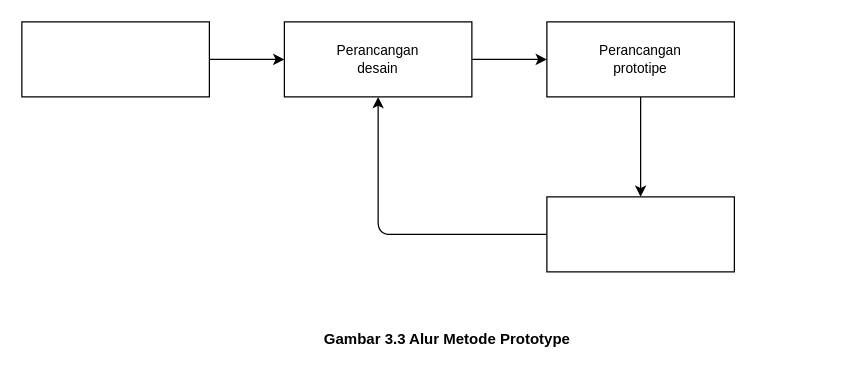
Image size: 844x381. Some labels were removed from this diagram. Each missing label, with the centre of its shape:
"Pengumpulan kebutuhan" belongs at (x=115, y=59).
"Uji coba dan evaluasi" belongs at (x=640, y=234).
